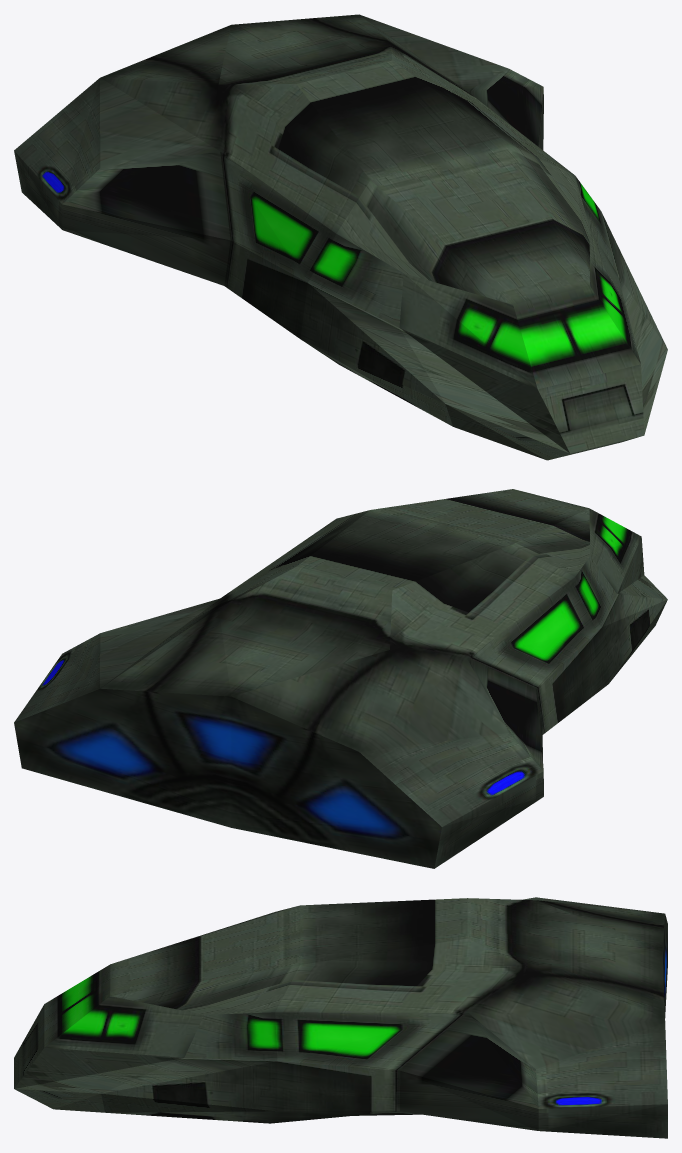
File: ShipCraft02.FBX
3 views of the same model, one above another, from view 1: azimuth 30°, elevation 25°; view 2: azimuth 150°, elevation 25°; view 3: azimuth 270°, elevation 25° (orthographic). The views are drawn at different scales.
Visible parts, largest first — view 1: ShipCraft02; view 2: ShipCraft02; view 3: ShipCraft02.
Part boxes in pixels (x1=…): ShipCraft02: x1=14, y1=14, x2=667, y2=460; ShipCraft02: x1=14, y1=489, x2=667, y2=868; ShipCraft02: x1=14, y1=897, x2=667, y2=1138.
Size of the model in its own units: 383 by 155 by 523.
1 material, 1 textured.
